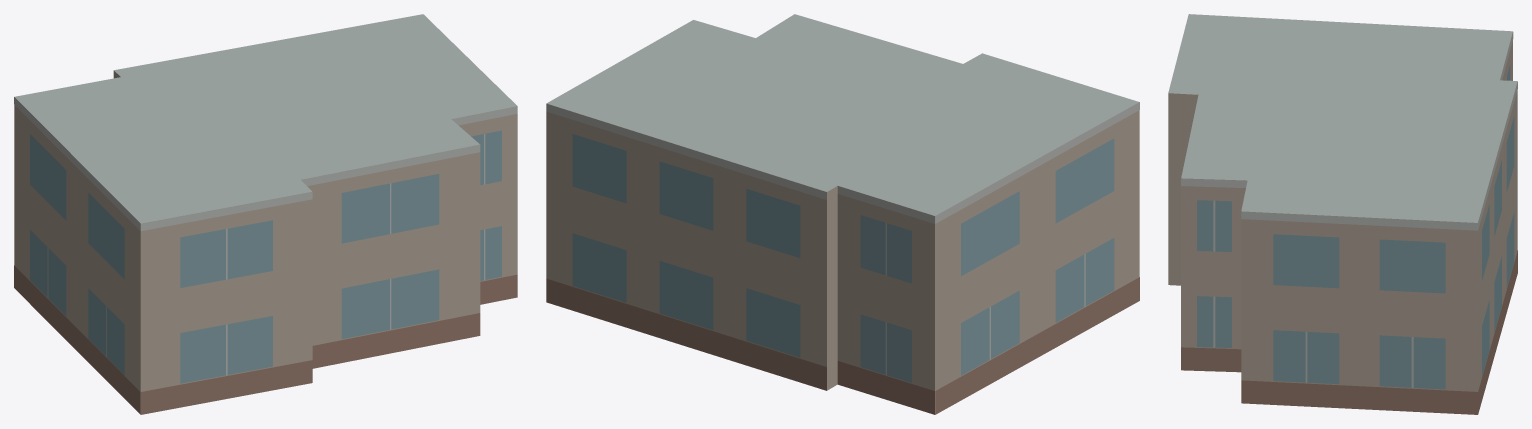
File: survey-upis-32879784.glb
3 views of the same model, side by side, from view 1: azimuth 30°, elevation 25°; view 2: azimuth 150°, elevation 25°; view 3: azimuth 270°, elevation 25° (orthographic). The views are drawn at different scales.
Visible parts, largest first — view 1: survey-upis-32879784.tmp; view 2: survey-upis-32879784.tmp; view 3: survey-upis-32879784.tmp.
Boxes of the visible parts, bbox=[...] form: survey-upis-32879784.tmp: bbox=[14, 14, 517, 414]; survey-upis-32879784.tmp: bbox=[546, 14, 1139, 414]; survey-upis-32879784.tmp: bbox=[1168, 14, 1517, 414].
Size of the model in its own units: 14.26 by 6.1 by 10.08.
